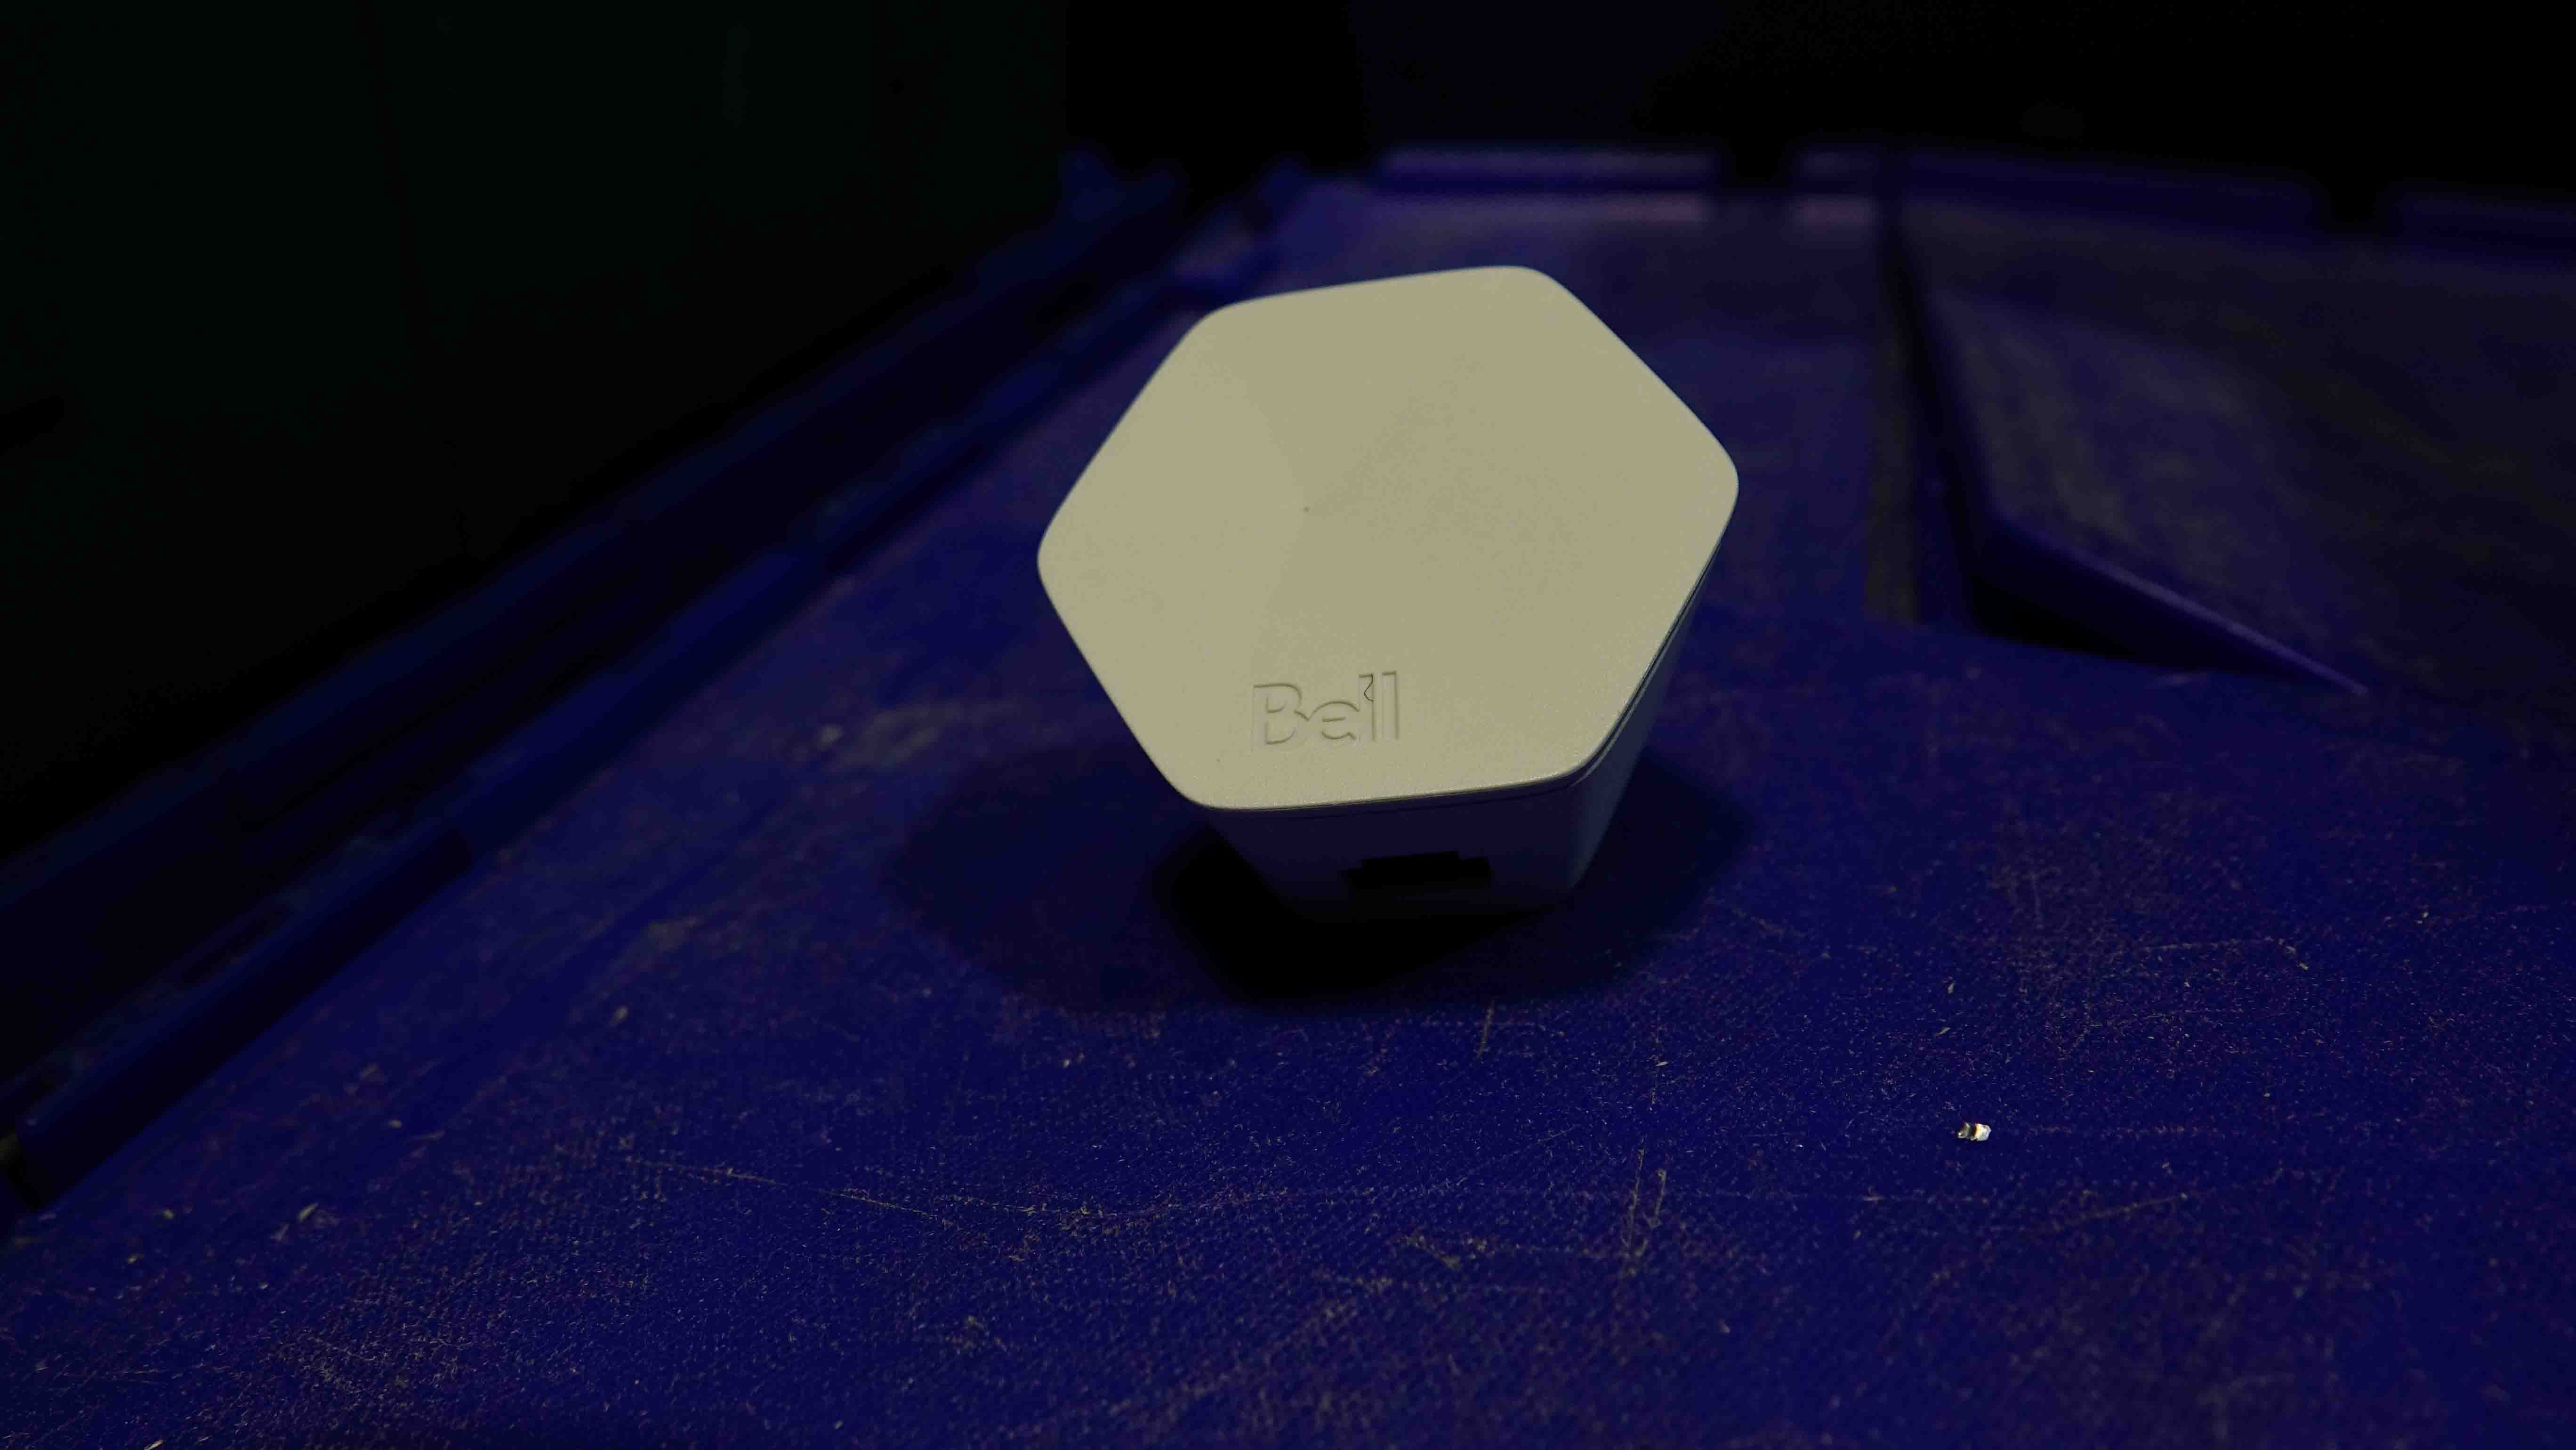pod: (1019, 255, 1762, 930)
